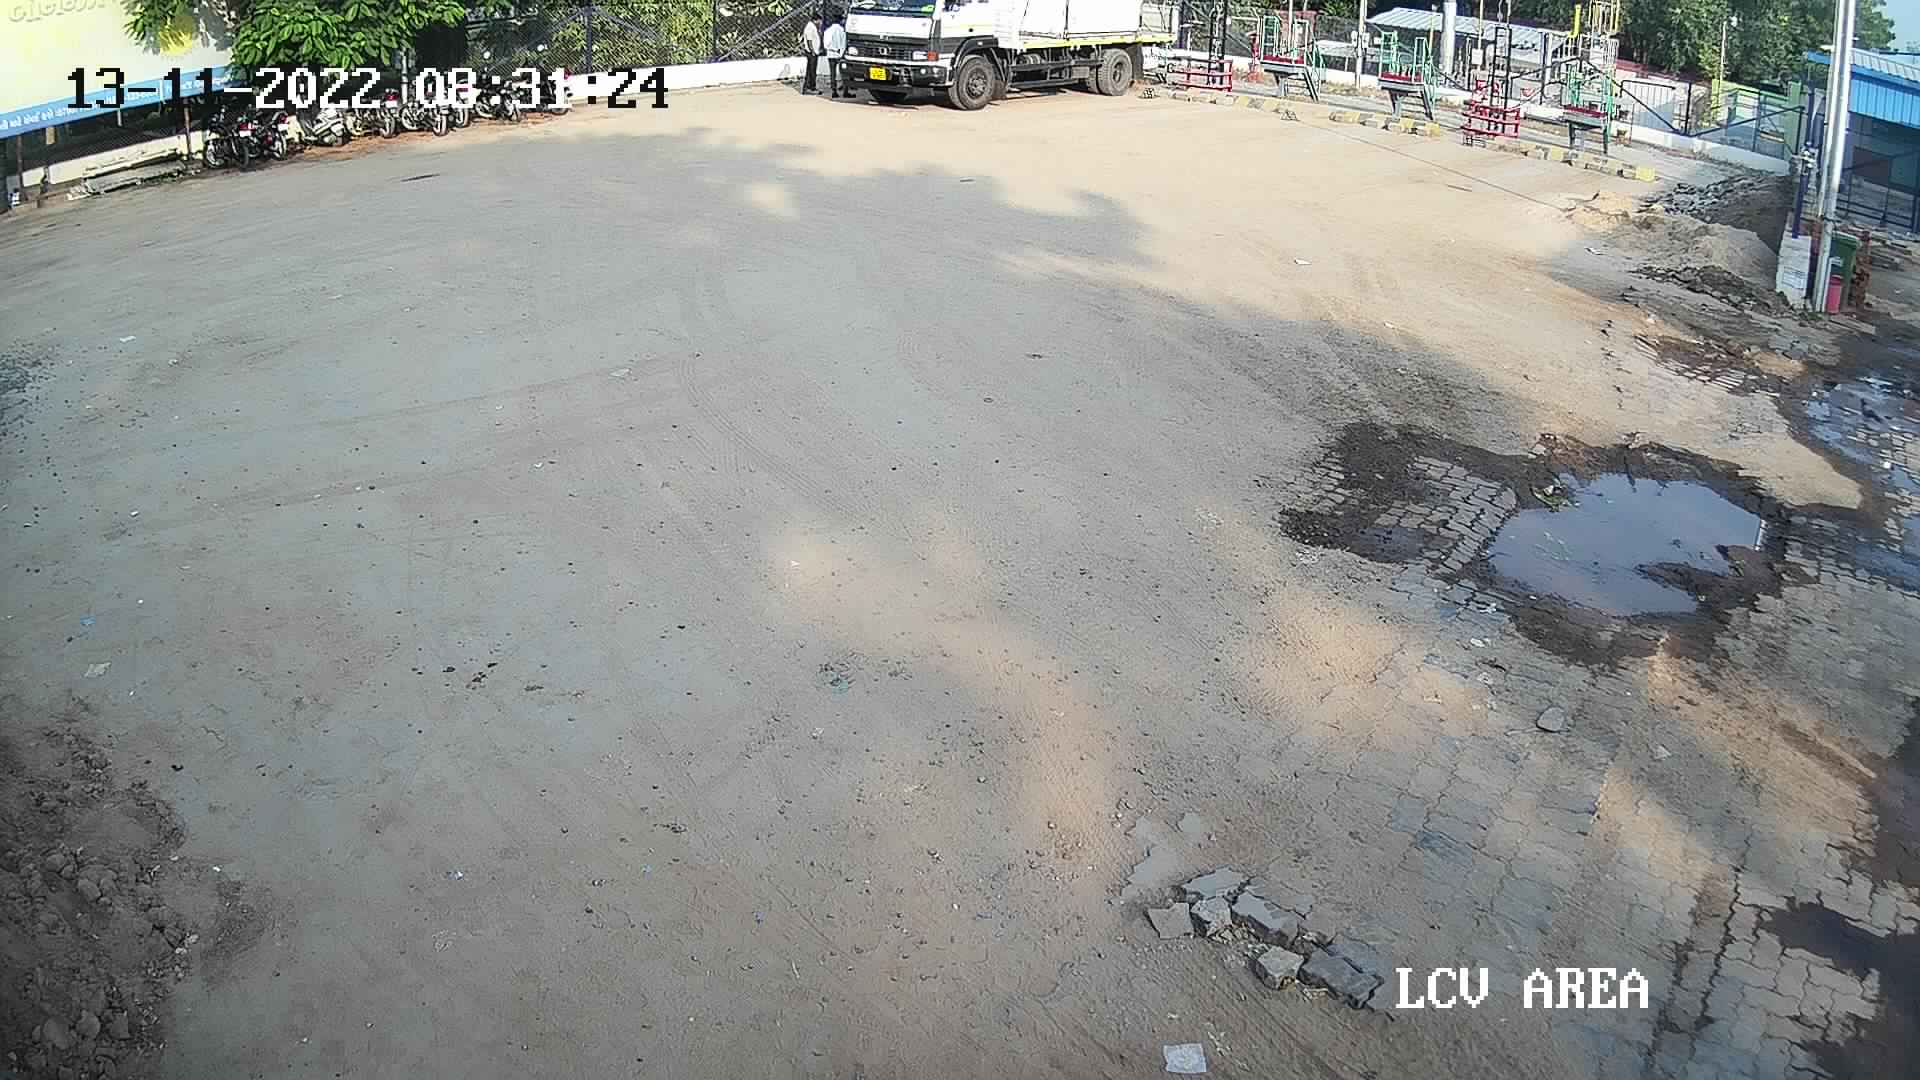HMV: (808, 0, 1176, 111)
